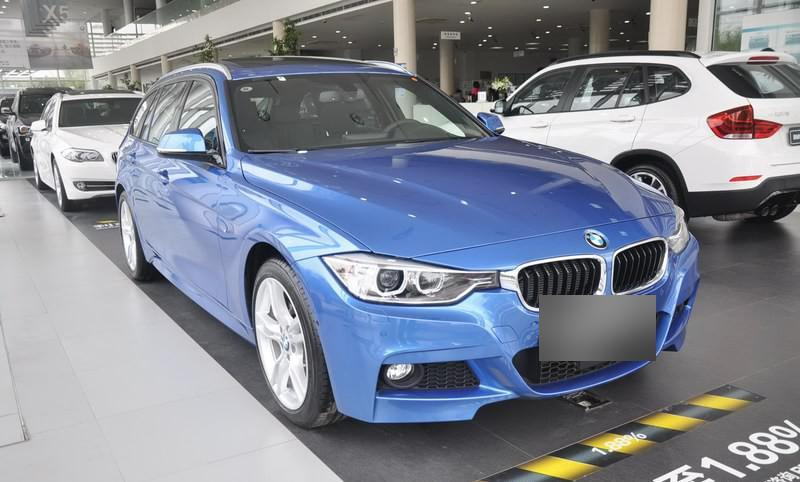Wagon: (115, 55, 701, 430)
